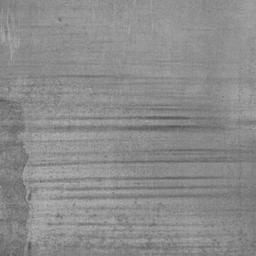Waist folding: (0, 75, 254, 256), (0, 18, 10, 59), (247, 120, 256, 127)
